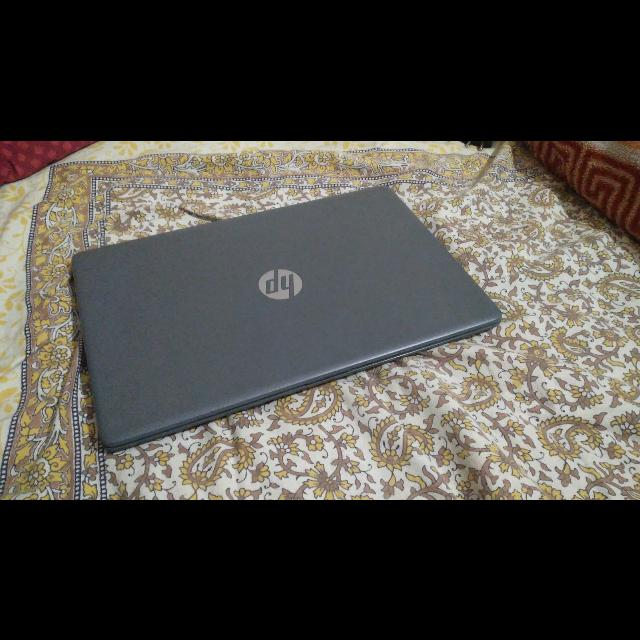laptop: (75, 172, 505, 444)
